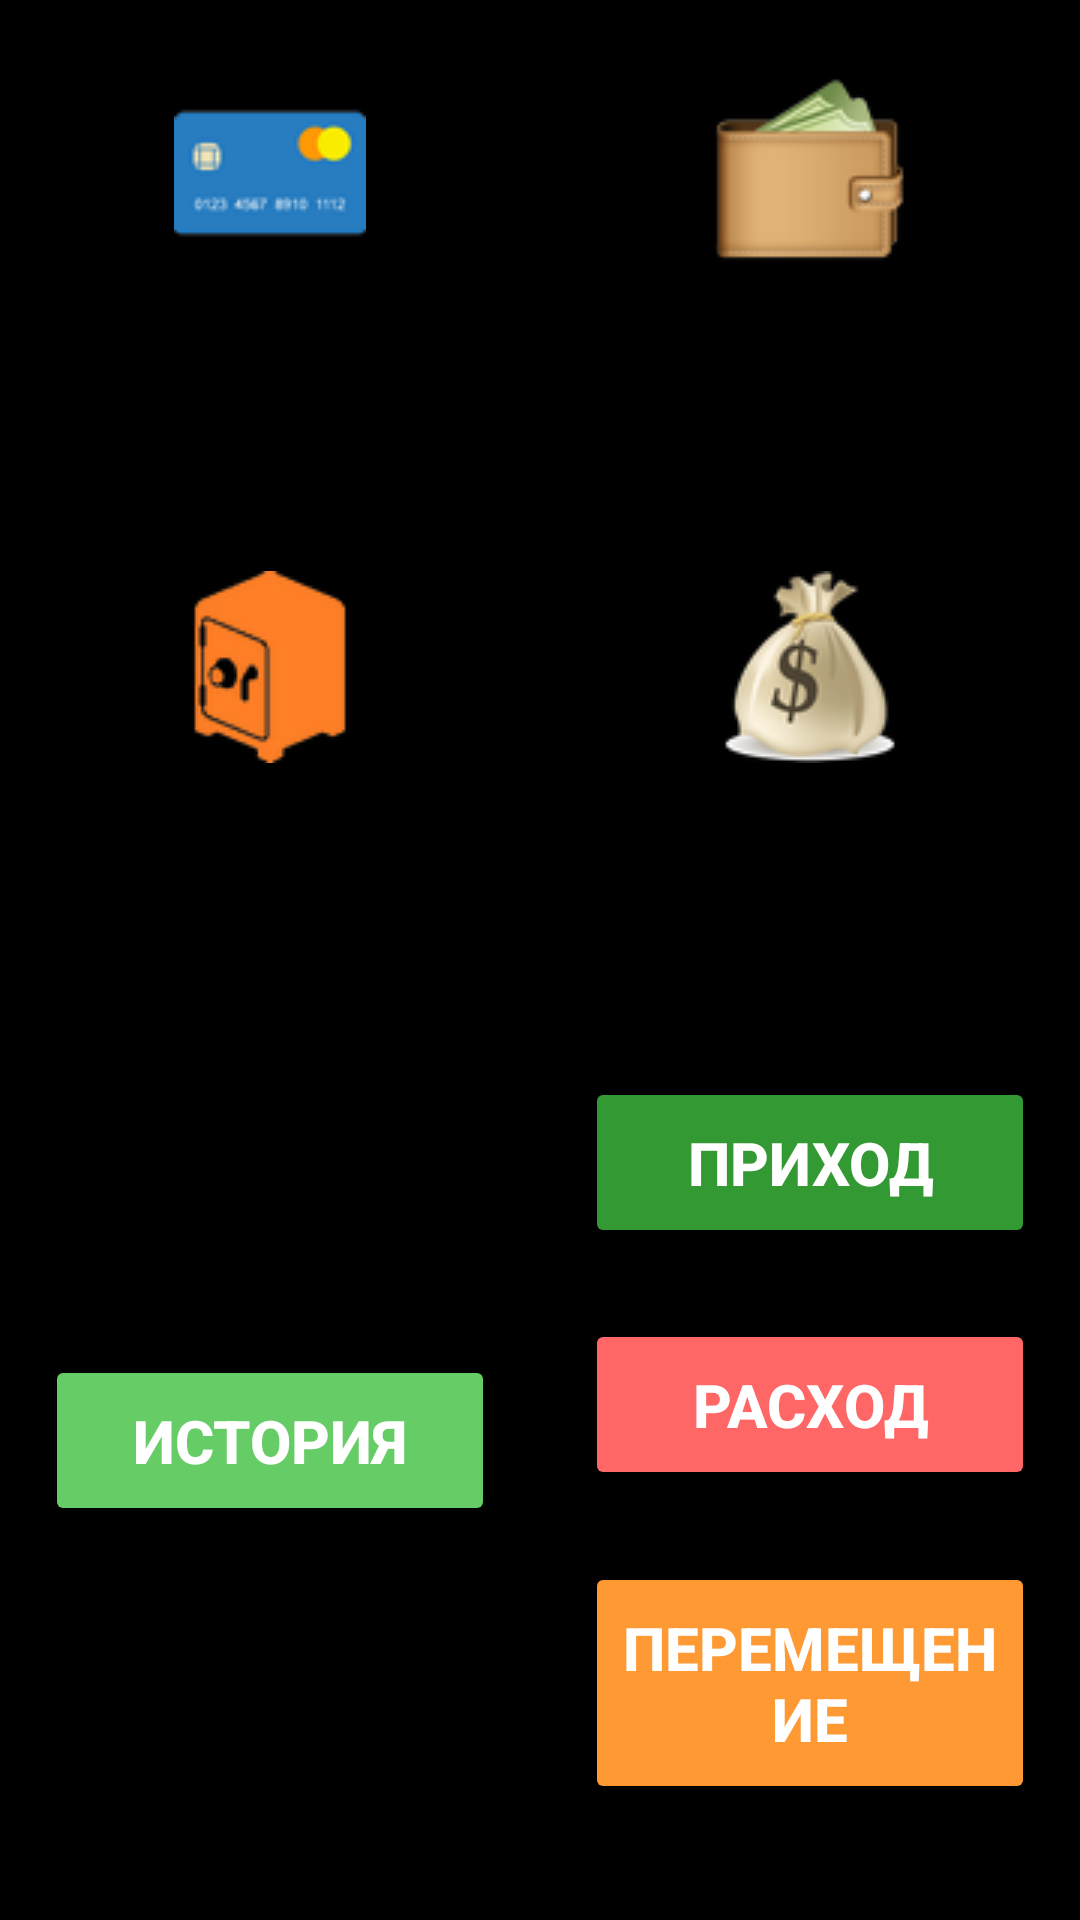

Screen size 1080×1920. Icon name, then its center in pixels as (x,y):
safe: (270,667)
